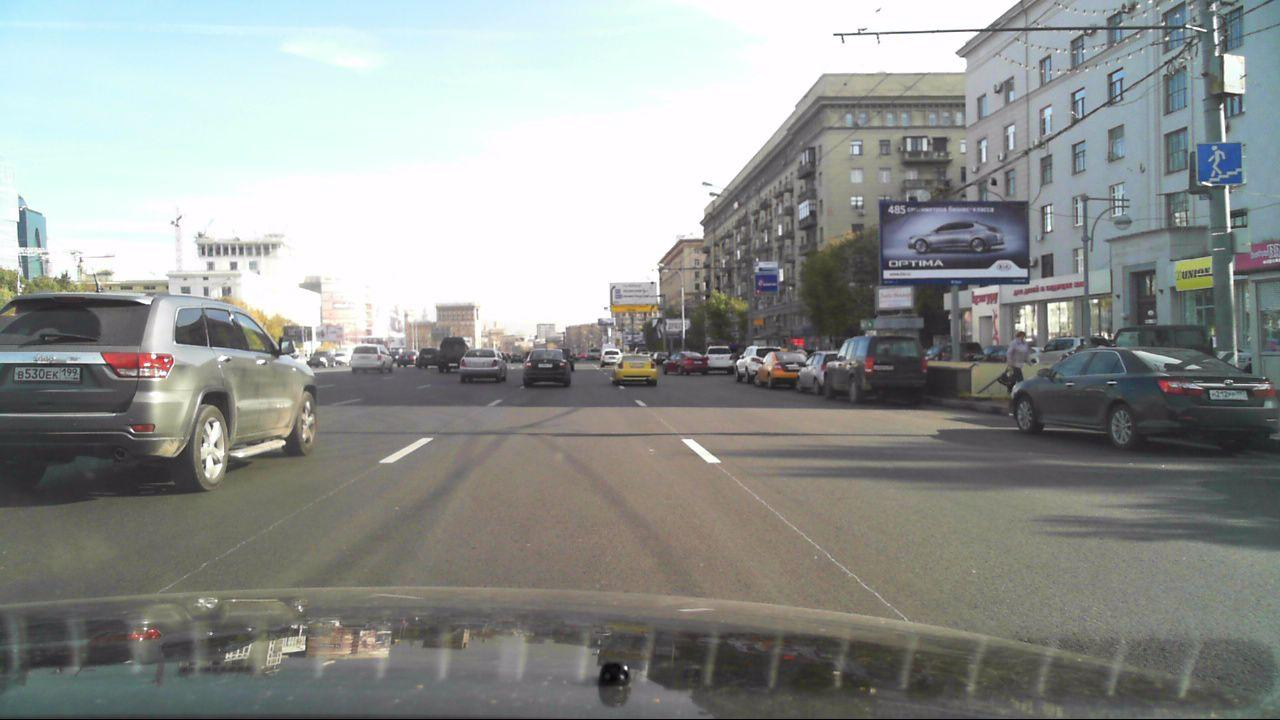6_6: (1196, 143, 1243, 187)
6_9_1: (608, 282, 658, 313)
